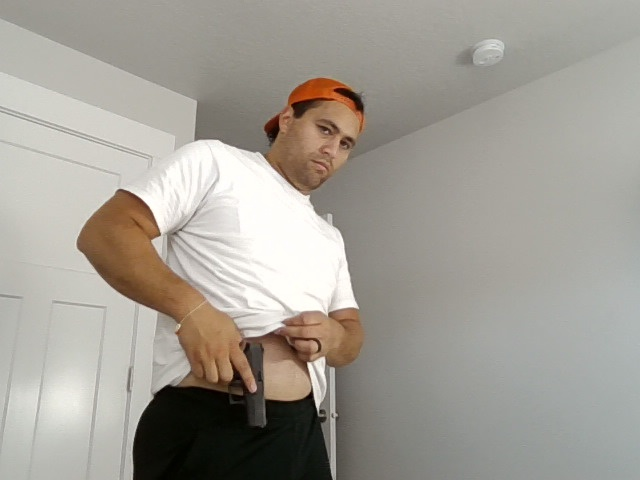handgun: (223, 343, 268, 429)
